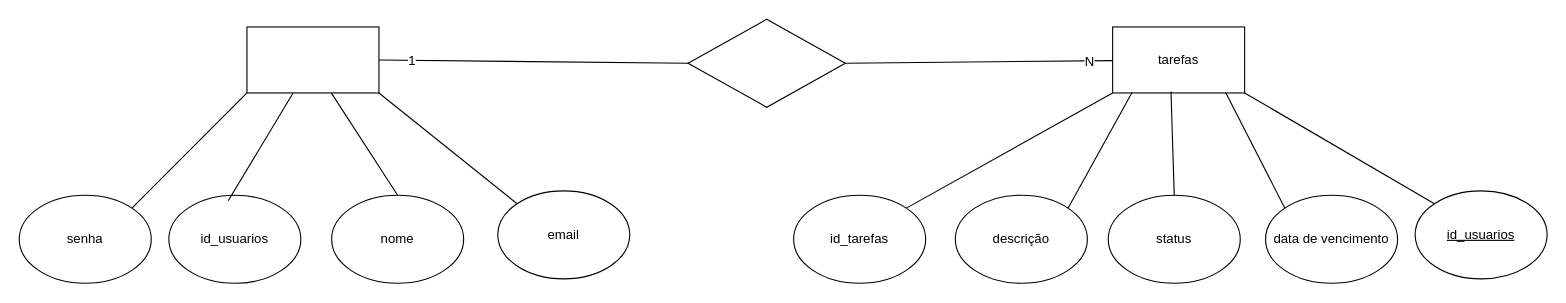
This 1566x303 diagram has some shape labels left out. The shapes that lost their labels are listed below. From the top down, each one's box as (x1, y1, x2, y2) in pixels, then its label:
(246, 26, 379, 93): usuarios
(687, 18, 845, 107): possui
